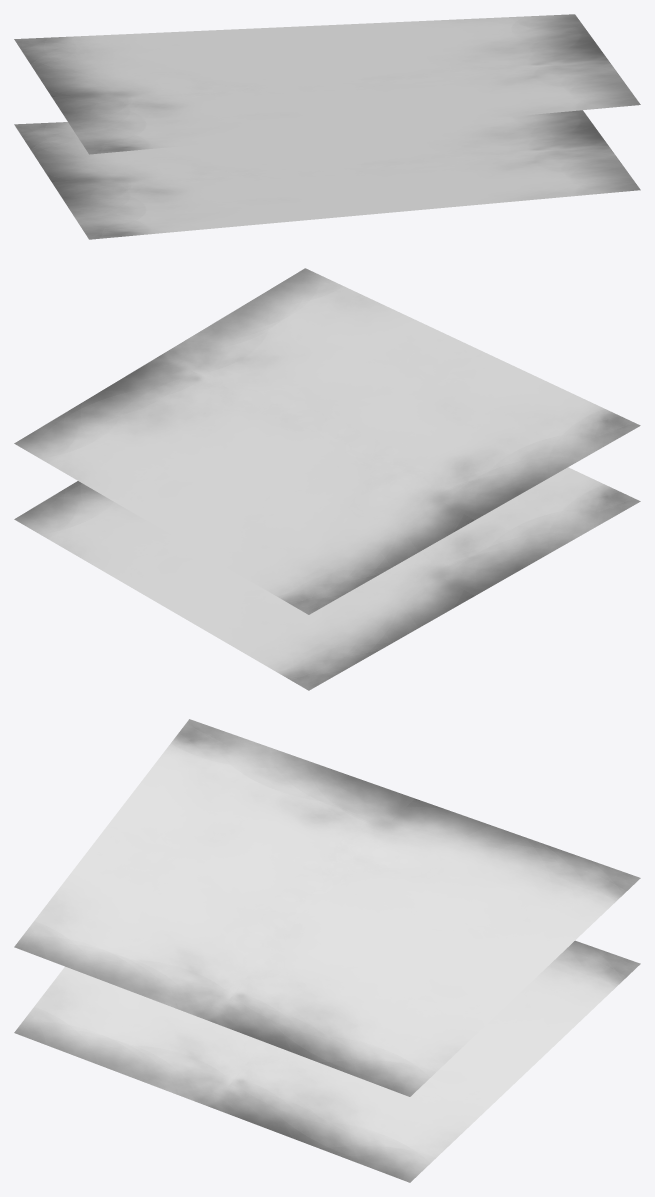
The model's file is CourseWinter_CurveFloor_1_4.fbx.
The picture shows the model from 3 angles, top to bottom: view 1: azimuth 30°, elevation 25°; view 2: azimuth 150°, elevation 25°; view 3: azimuth 270°, elevation 25°; orthographic projection. The views are drawn at different scales.
Parts seen in each view (by area): view 1: polySurface628; view 2: polySurface628; view 3: polySurface628.
Boxes of the visible parts, bbox=[...] form: polySurface628: bbox=[14, 14, 640, 239]; polySurface628: bbox=[14, 268, 640, 690]; polySurface628: bbox=[14, 719, 640, 1182].
Bounding box in the file's own units: 7.31 × 2 × 6.63.
1 material, 1 textured.
